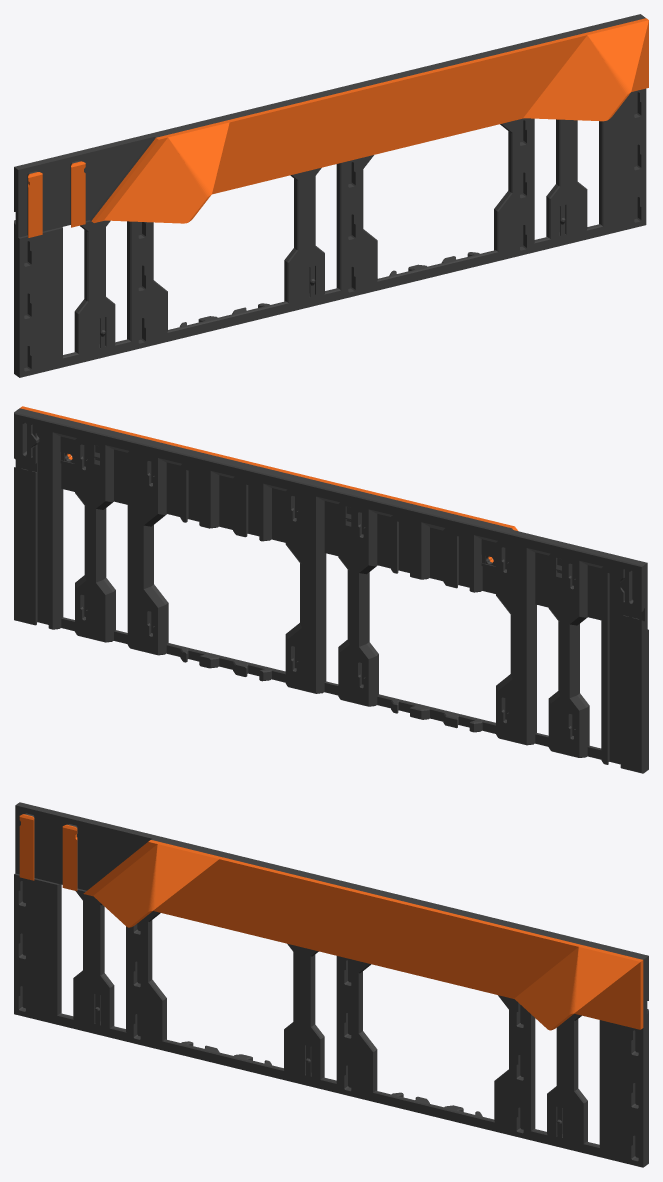
File: Faceplate_EdgeLabel_3W-15H.lib.glb
The picture shows the model from 3 angles, top to bottom: view 1: azimuth 30°, elevation 25°; view 2: azimuth 150°, elevation 25°; view 3: azimuth 330°, elevation 25°; orthographic projection.
Parts seen in each view (by area): view 1: Faceplate_EdgeLabel_3W-15H; view 2: Faceplate_EdgeLabel_3W-15H; view 3: Faceplate_EdgeLabel_3W-15H.
Part boxes in pixels (bbox=[...]): Faceplate_EdgeLabel_3W-15H: bbox=[14, 14, 648, 377]; Faceplate_EdgeLabel_3W-15H: bbox=[14, 406, 648, 773]; Faceplate_EdgeLabel_3W-15H: bbox=[14, 802, 648, 1167].
Bounding box in the file's own units: 263 × 83 × 24.11.
